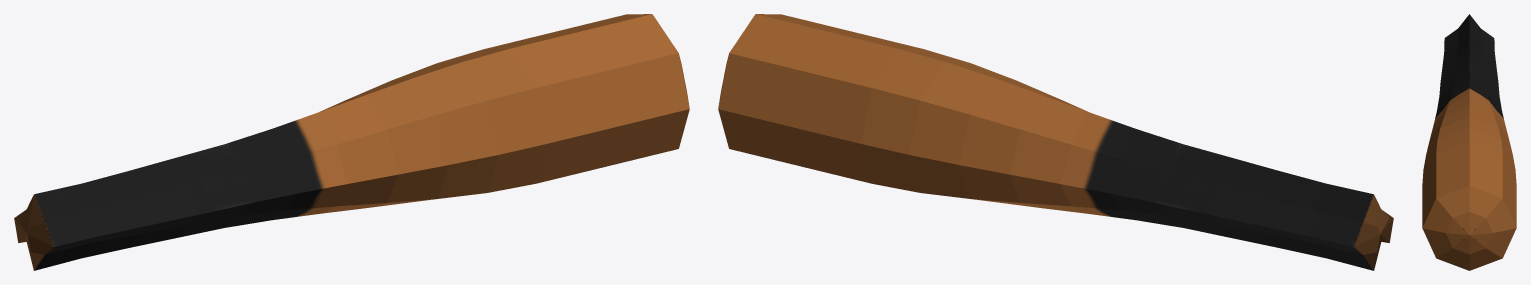
Rendered from BaseballBat.fbx.
3 views of the same model, side by side, from view 1: azimuth 30°, elevation 25°; view 2: azimuth 150°, elevation 25°; view 3: azimuth 270°, elevation 25° (orthographic). The views are drawn at different scales.
Parts seen in each view (by area): view 1: Bat; view 2: Bat; view 3: Bat.
Boxes of the visible parts, bbox=[...] form: Bat: bbox=[14, 14, 689, 270]; Bat: bbox=[718, 14, 1393, 270]; Bat: bbox=[1422, 14, 1516, 270].
Bounding box in the file's own units: 342 × 68 × 68.
